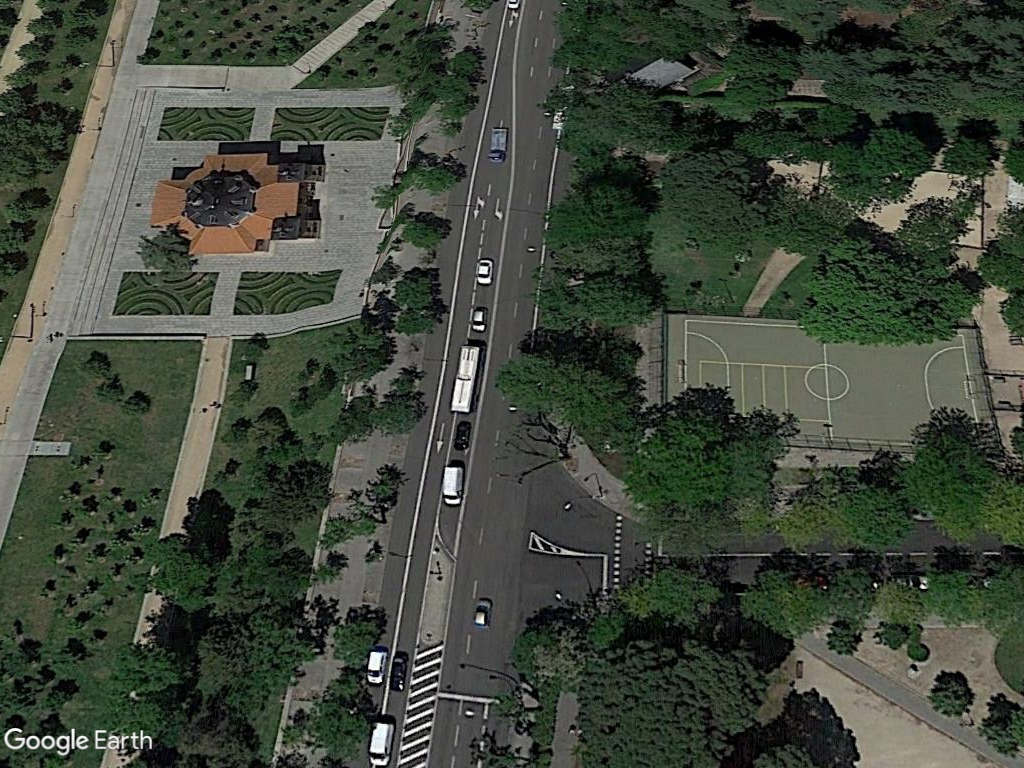bus: (450, 338, 478, 416)
van: (369, 716, 395, 768), (441, 460, 466, 509), (366, 648, 387, 688)
